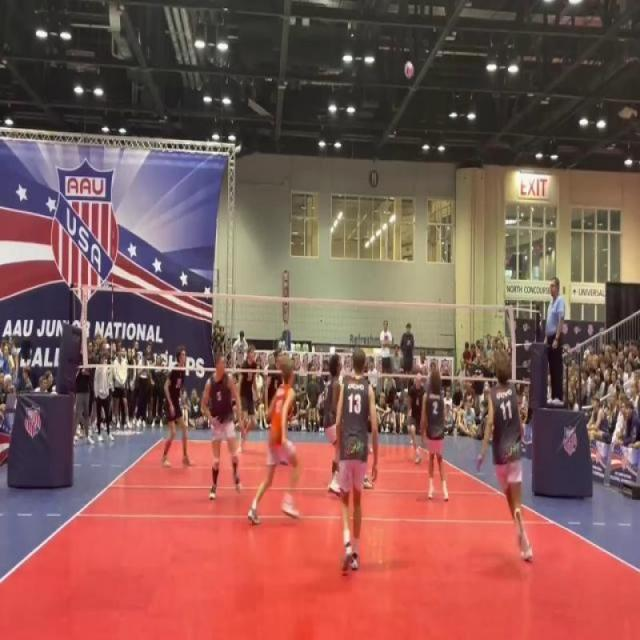volleyball: (403, 60, 416, 80)
